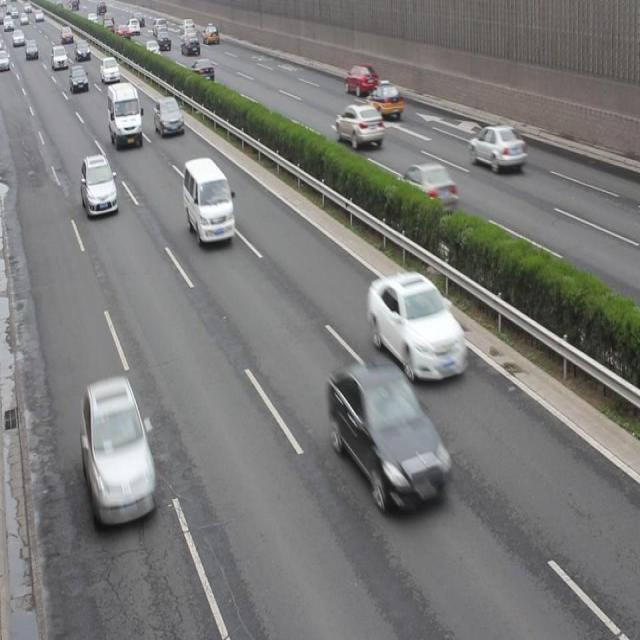car: (326, 358, 446, 508), (81, 373, 156, 523), (367, 269, 466, 382), (398, 162, 456, 216), (468, 123, 525, 176), (81, 153, 118, 220), (333, 104, 384, 148), (154, 95, 185, 137), (366, 83, 403, 118), (343, 62, 378, 97), (189, 60, 214, 87)
truck: (183, 155, 236, 244), (108, 82, 144, 149)
